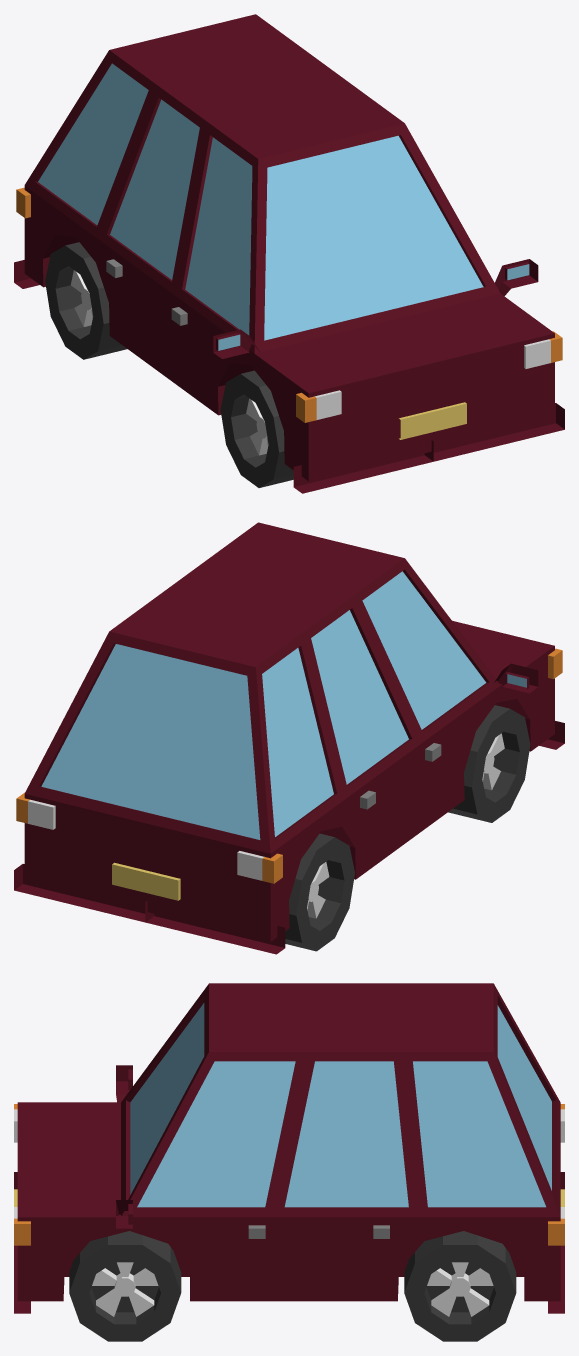
The model's file is Minivan-SUV.glb.
3 renders of one model, top to bottom at view 1: azimuth 30°, elevation 25°; view 2: azimuth 150°, elevation 25°; view 3: azimuth 270°, elevation 25°, orthographic. The views are drawn at different scales.
Visible parts, largest first — view 1: Cube.007; view 2: Cube.007; view 3: Cube.007.
Part boxes in pixels (x1,y1,x2,y2): Cube.007: (14, 14, 564, 493); Cube.007: (14, 522, 564, 954); Cube.007: (14, 983, 564, 1341).
Size of the model in its own units: 2.57 by 2.16 by 4.06.
